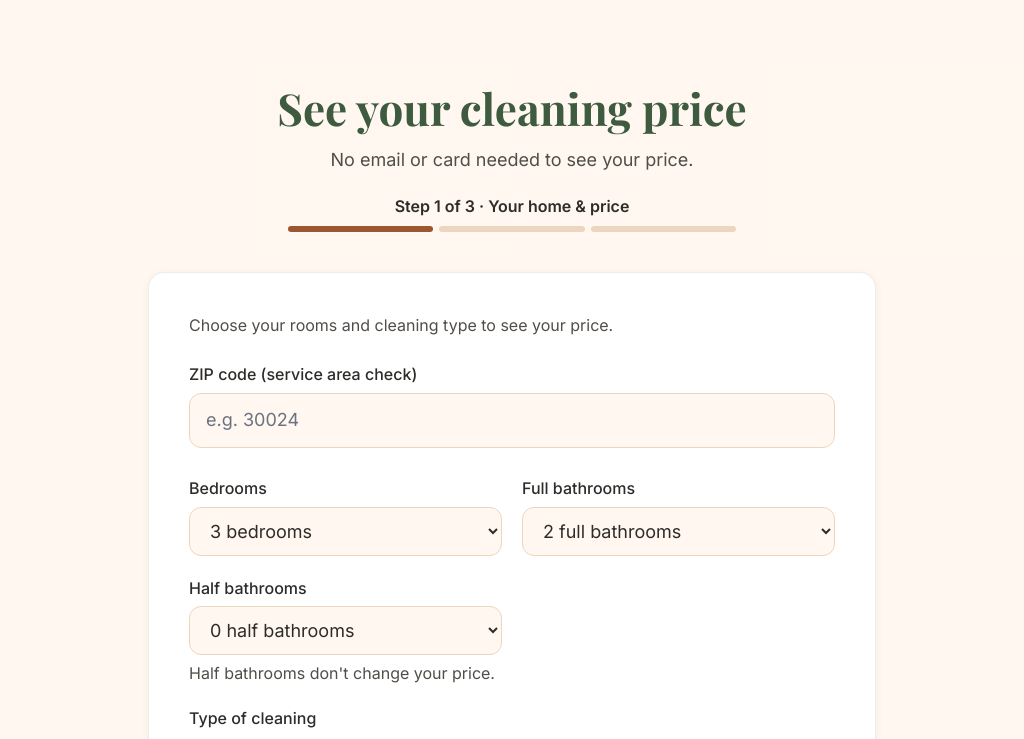
V2: rooms to skip, entry codes, date is a request (visual report) › shows the skip-rooms line above the photo checkbox, the no-codes line, and the date-request line by the price
Type "30024" into the field labelled "ZIP code (service area check)" at {"x": 512, "y": 420}, box [189, 393, 835, 448]
(page scrolled)
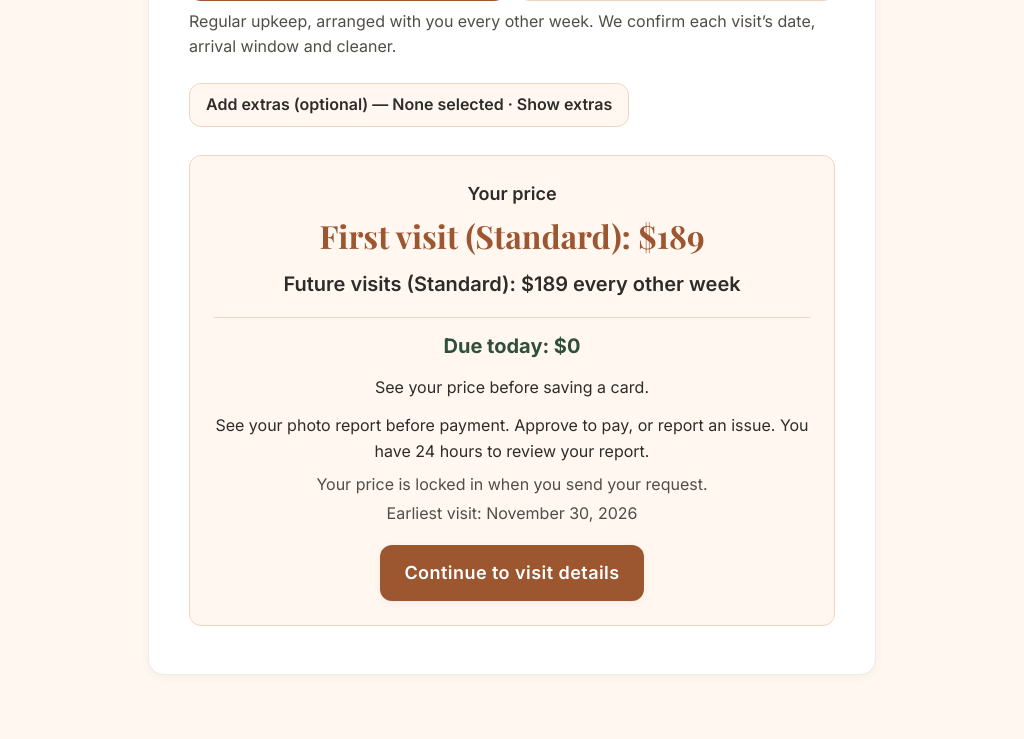
Click the button "Continue to visit details" at {"x": 512, "y": 573}, box [380, 545, 644, 601]
(page scrolled)
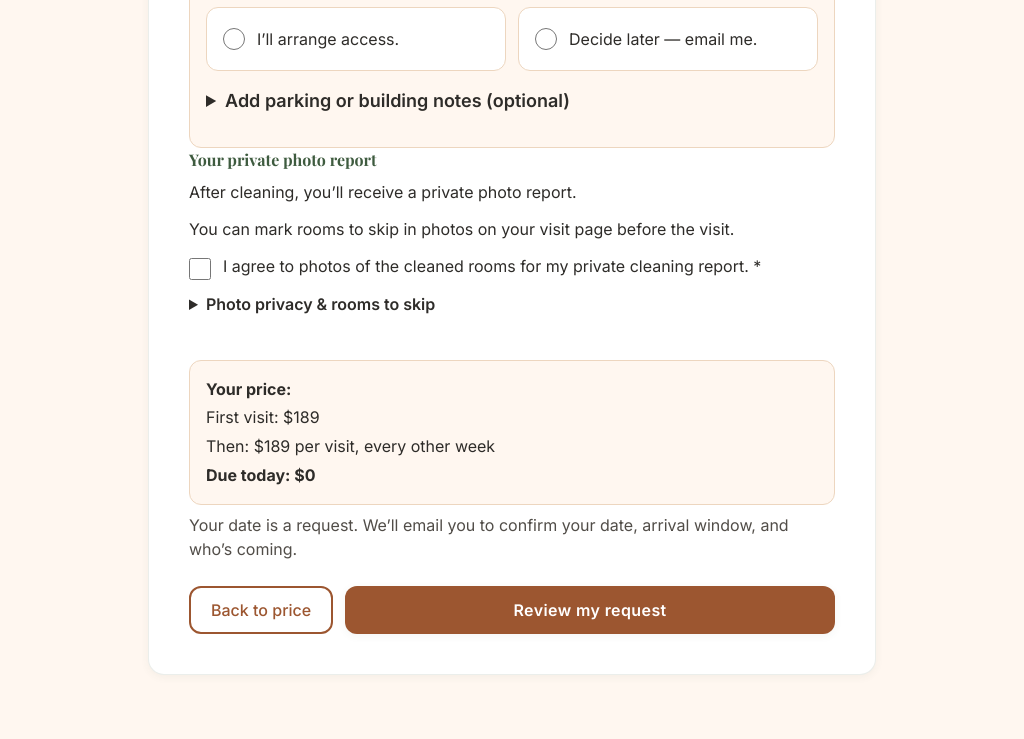
Result: the text "You can mark rooms to skip in photos on your visit page before the visit." is shown at [189, 219, 734, 239]
Result: the text "confirm your date, arrival window, and who.s coming" is shown at [189, 515, 789, 560]
